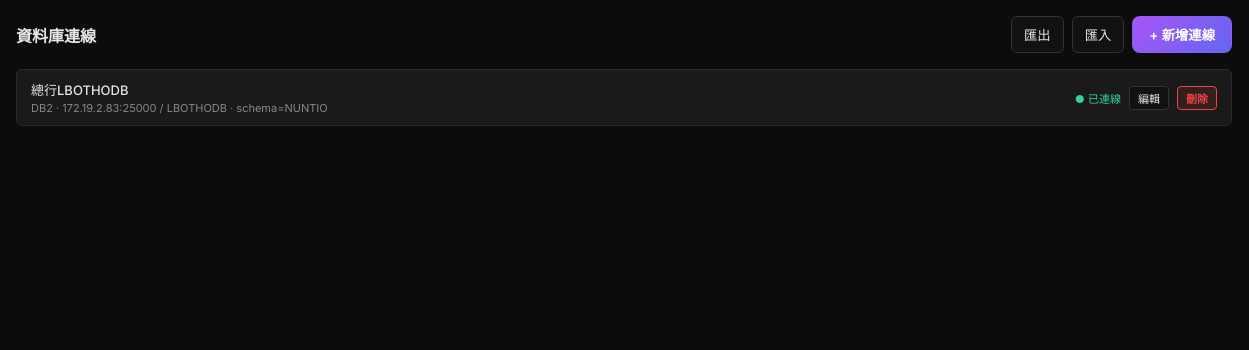
Test: DatabaseConnectionsPage transfer buttons › opens the export panel and hides the connection list
The width and height of the screenshot is (1249, 350).
Click the button "匯出". click: (1037,34)
box: [1011,16,1064,53]
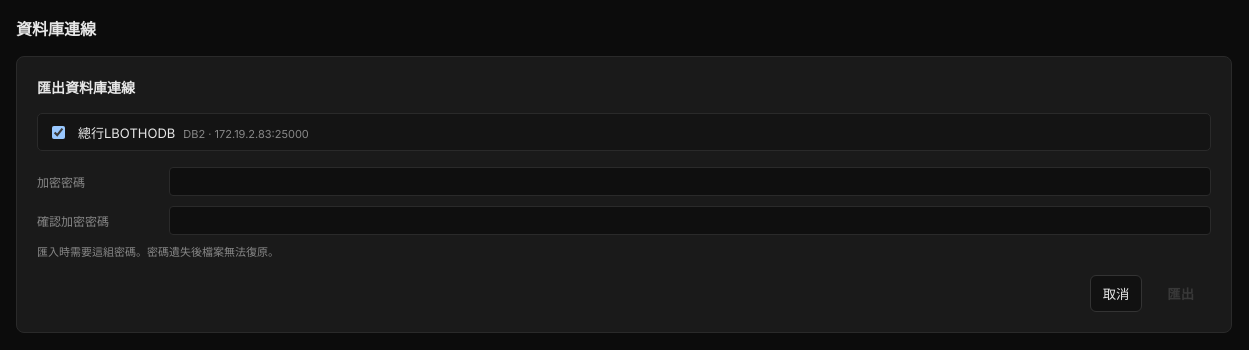
Now the heading "匯出資料庫連線" is shown, box [37,79,135,96]
Now the button "+ 新增連線" is gone
